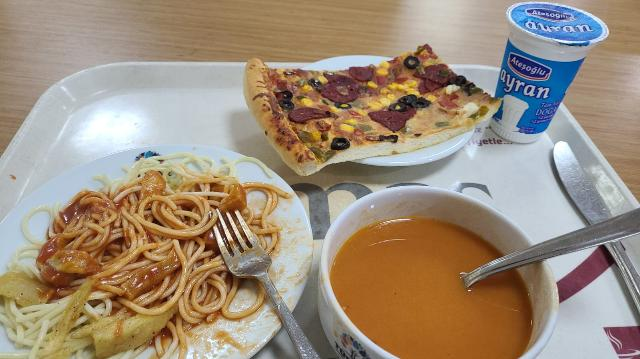Metal: (208, 208, 333, 359), (551, 140, 640, 320), (460, 205, 640, 286)
Organik: (28, 159, 253, 358), (246, 53, 491, 168)
Plastik: (492, 0, 609, 141)
